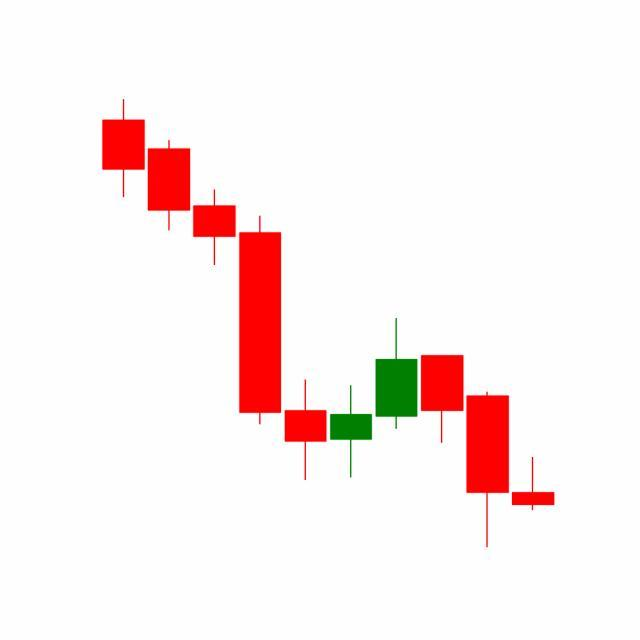Hikkake Pattern: (283, 315, 512, 548)
